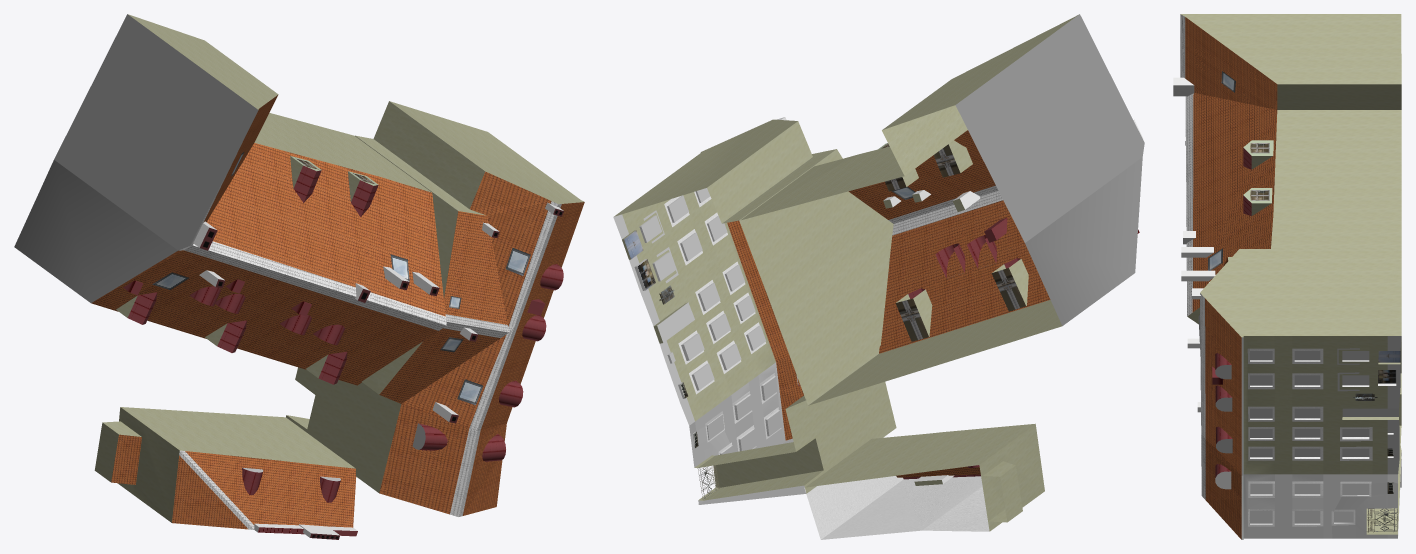
The model's file is Rataskaevu_22_1.obj.
3 renders of one model, left to right at view 1: azimuth 30°, elevation 25°; view 2: azimuth 150°, elevation 25°; view 3: azimuth 270°, elevation 25°, orthographic. The views are drawn at different scales.
Visible parts, largest first — view 1: Rataskaevu_22_1; view 2: Rataskaevu_22_1; view 3: Rataskaevu_22_1.
Part boxes in pixels (x1=…): Rataskaevu_22_1: x1=14, y1=14, x2=584, y2=539; Rataskaevu_22_1: x1=613, y1=14, x2=1144, y2=539; Rataskaevu_22_1: x1=1173, y1=14, x2=1401, y2=539.
Bounding box in the file's own units: 40.46 × 40.09 × 19.97.
